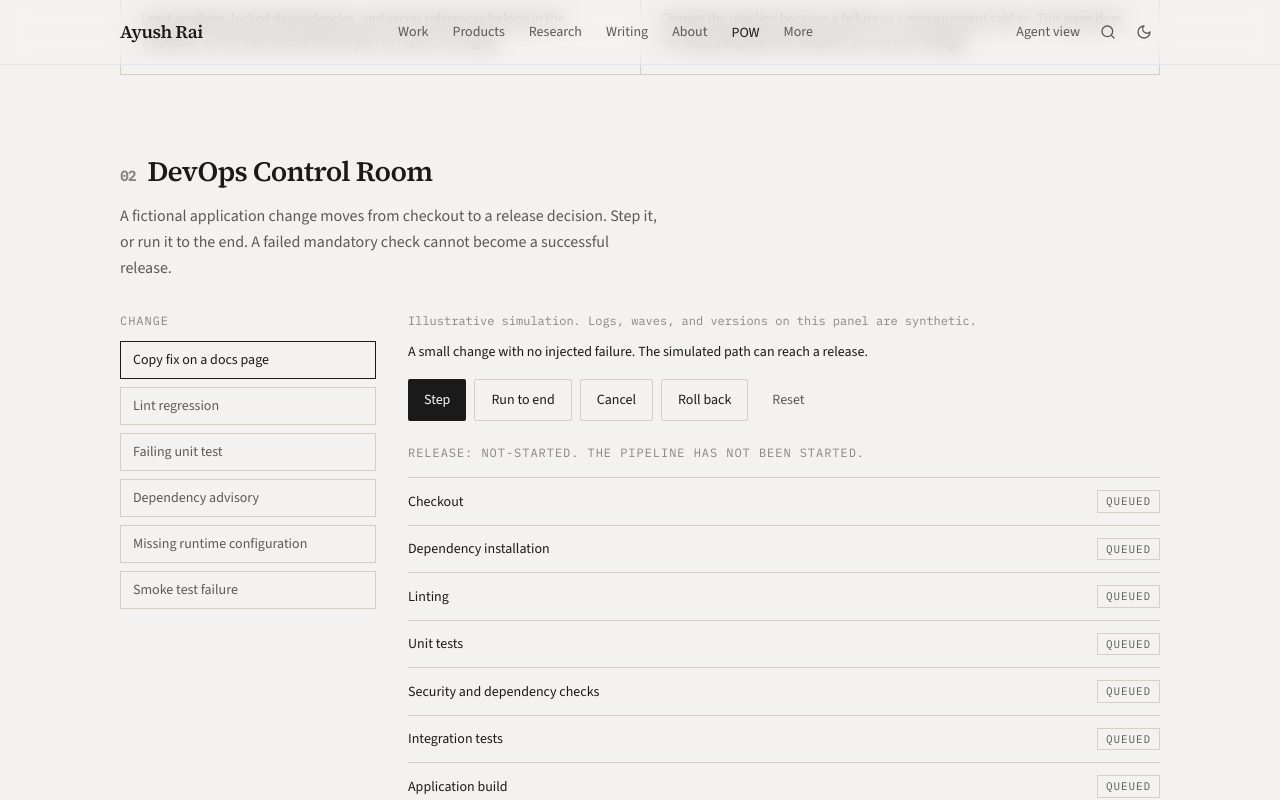
Test case: devops engineer proof of work › blocks a simulated release when lint fails and rolls back a smoke failure
(page scrolled)
Click the button "Step" at (437, 400), box [408,379,466,421]
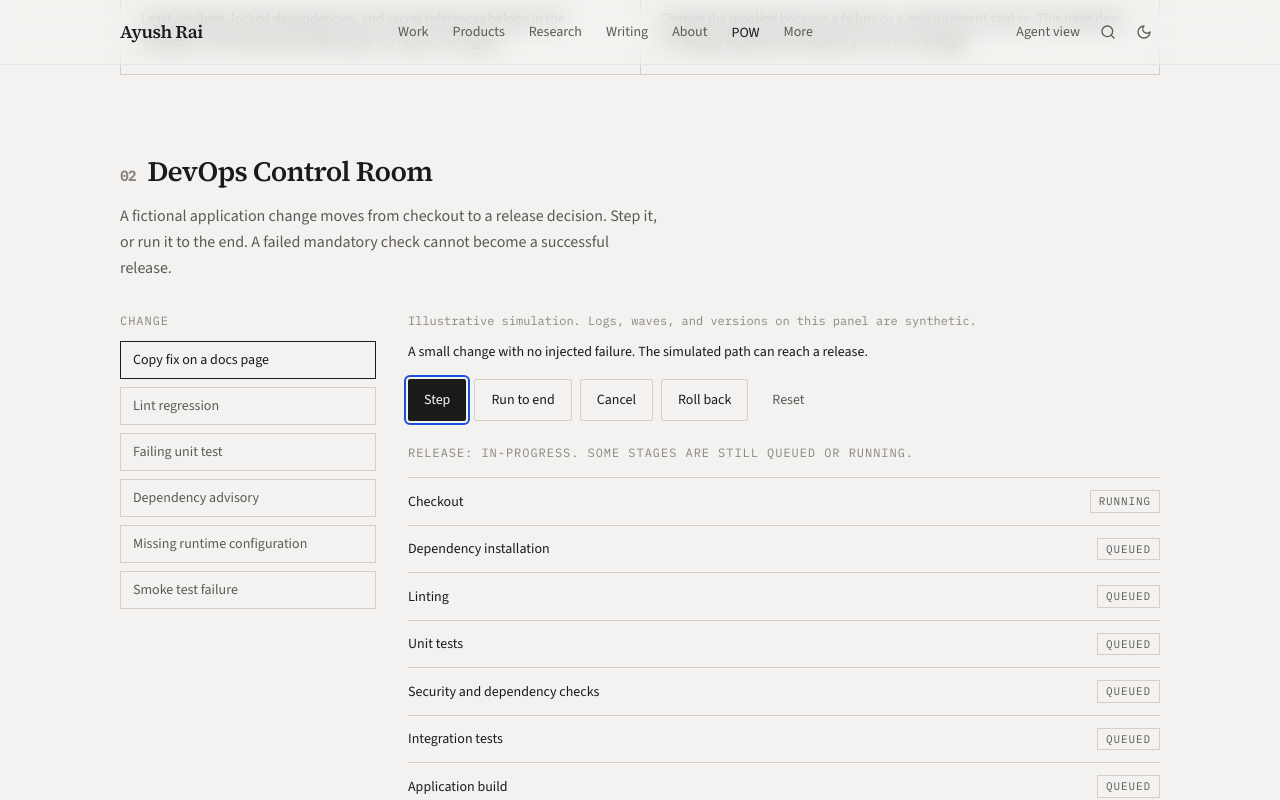
expect the text "Running" is shown: met, box [1090,490,1160,513]
Click the button "Lint regression" at (248, 406), box [120,386,376,424]
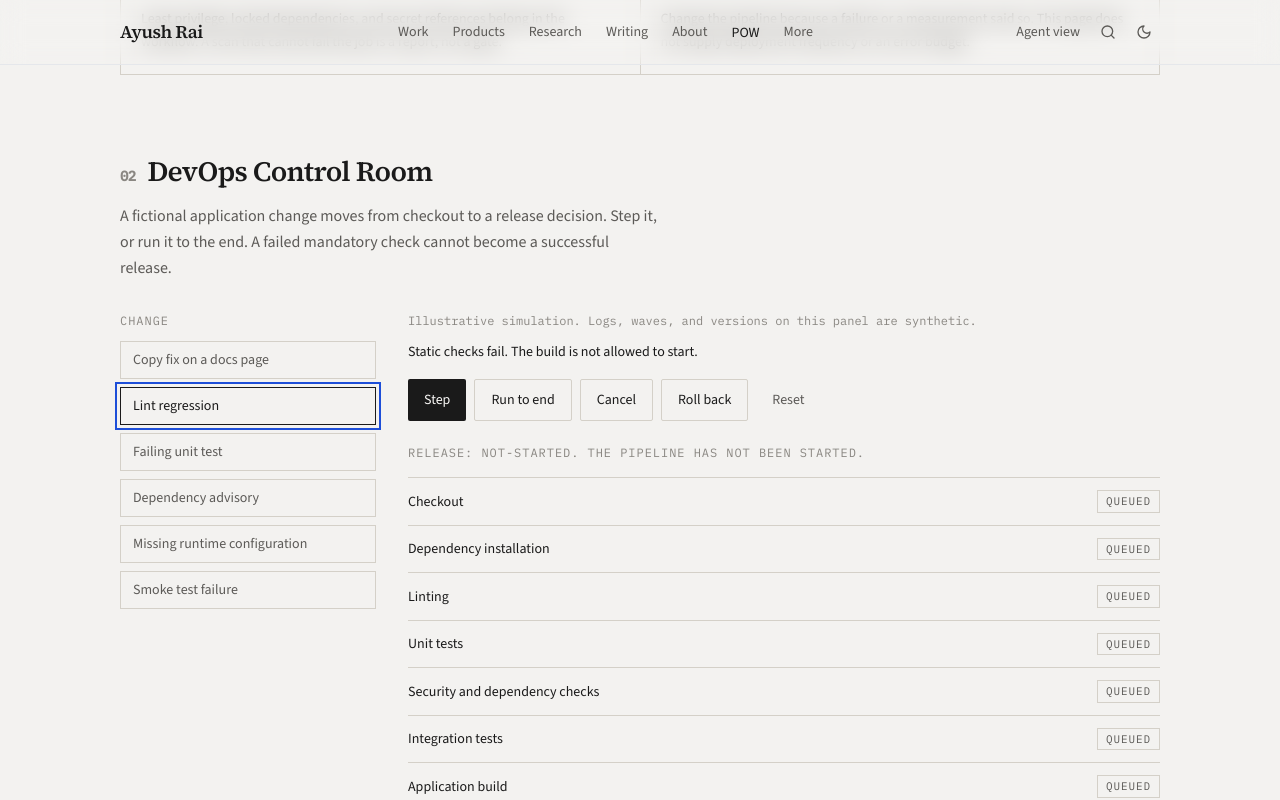
Click the button "Run to end" at (523, 400), box [474,379,572,421]
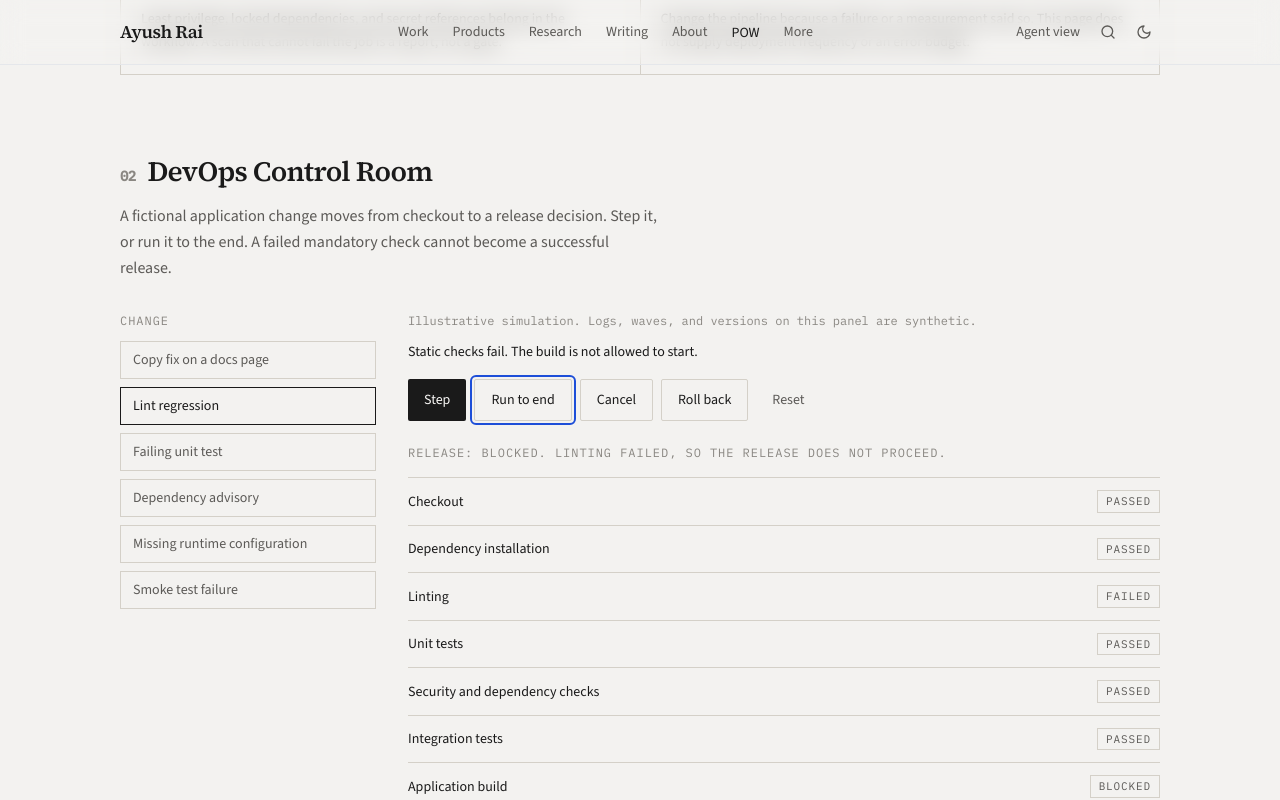
expect the text "Illustrative" is shown: met, box [408,312,977,328]
expect the text "Linting failed" is shown: met, box [555,445,947,460]
Click the button "Smoke test failure" at (248, 590), box [120,570,376,608]
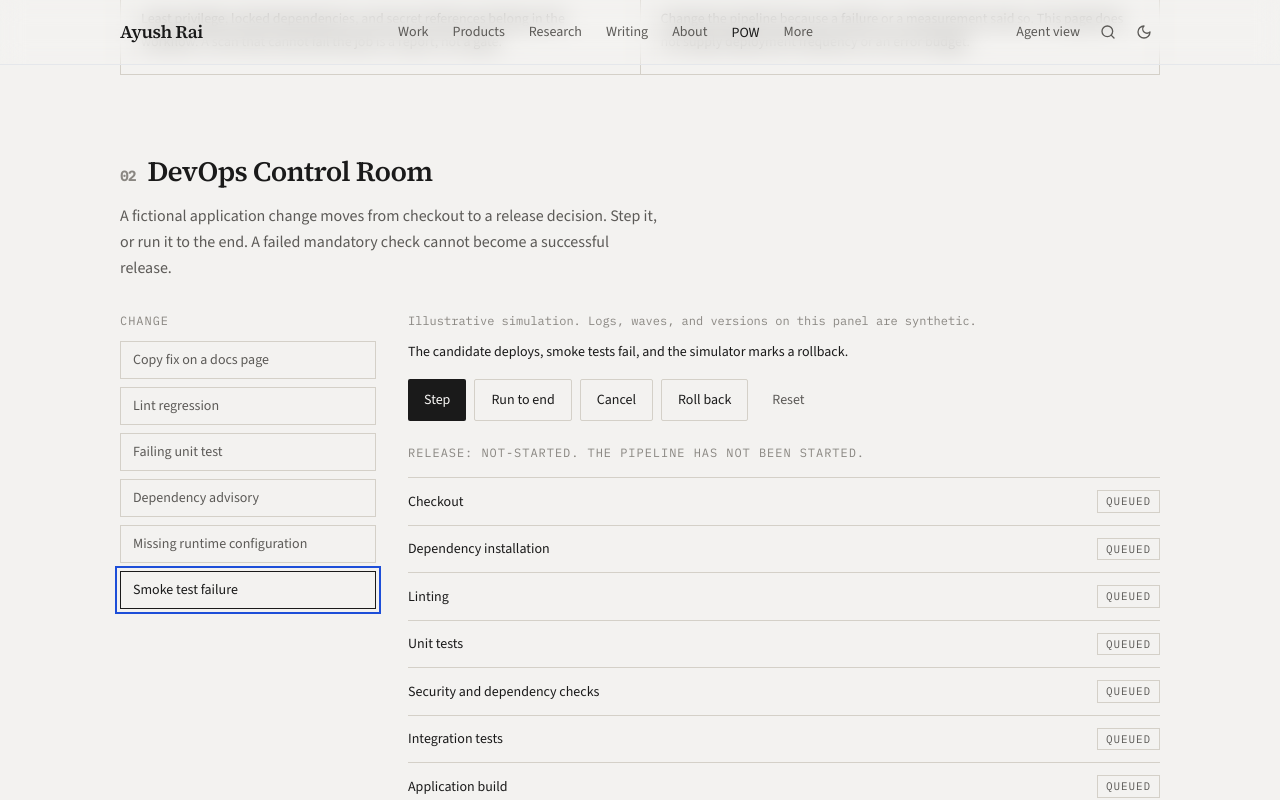
Click the button "Run to end" at (523, 400), box [474,379,572,421]
(page scrolled)
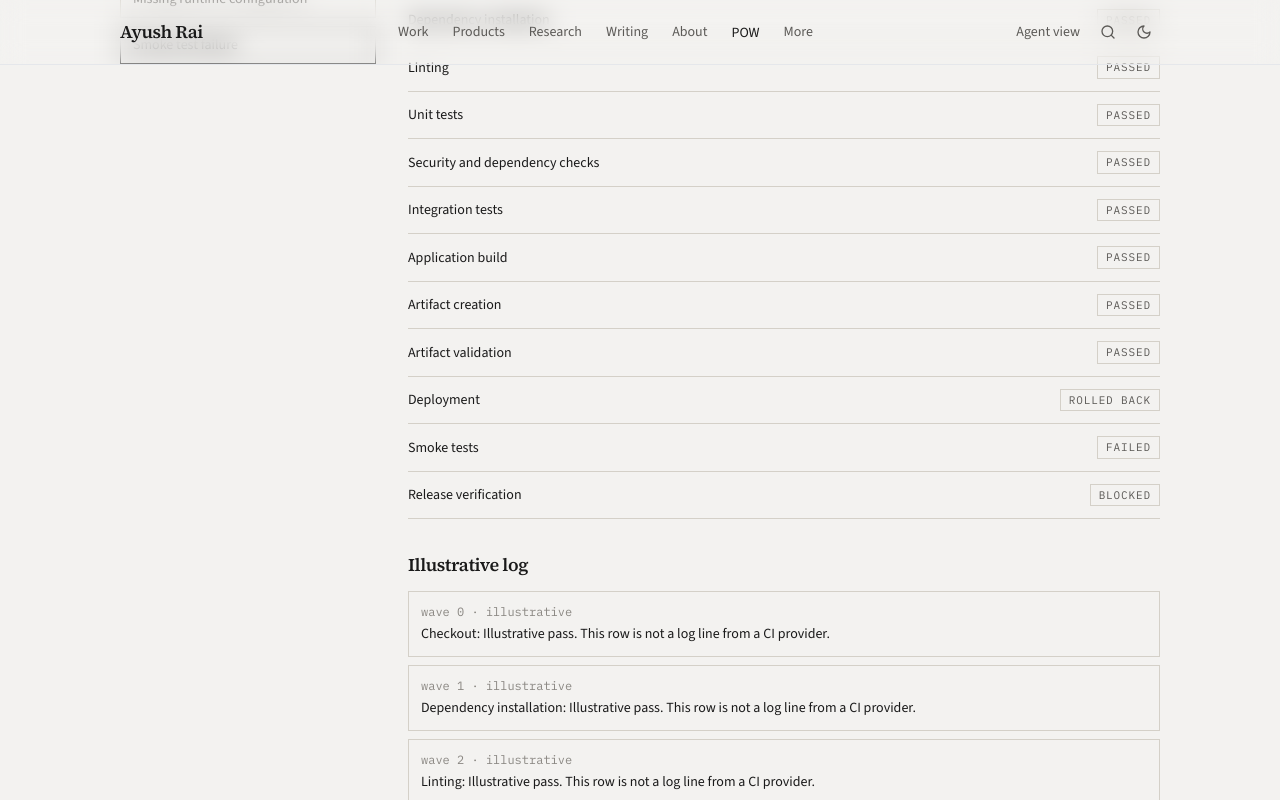
expect the text "Rolled back" is shown: met, box [1060,389,1160,411]
